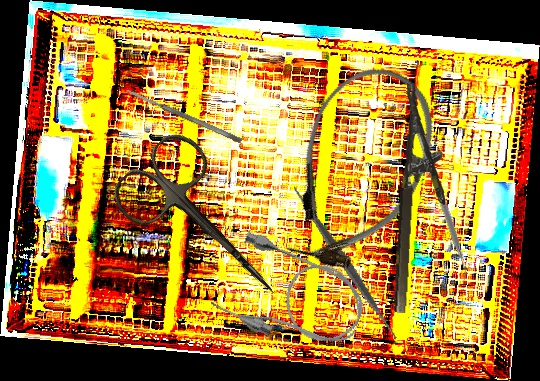Cannula: (261, 49, 457, 289), (206, 226, 376, 367)
Iris Scissors: (105, 123, 309, 331)
Needle Holder: (391, 82, 453, 316)
Spatula Surgical: (258, 177, 432, 350), (402, 110, 475, 284), (125, 86, 243, 145)
